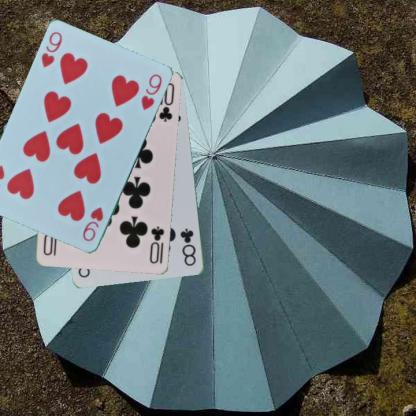10c: (147, 224, 166, 265)
8c: (178, 226, 198, 267)
9h: (38, 29, 63, 69), (80, 204, 105, 243)
